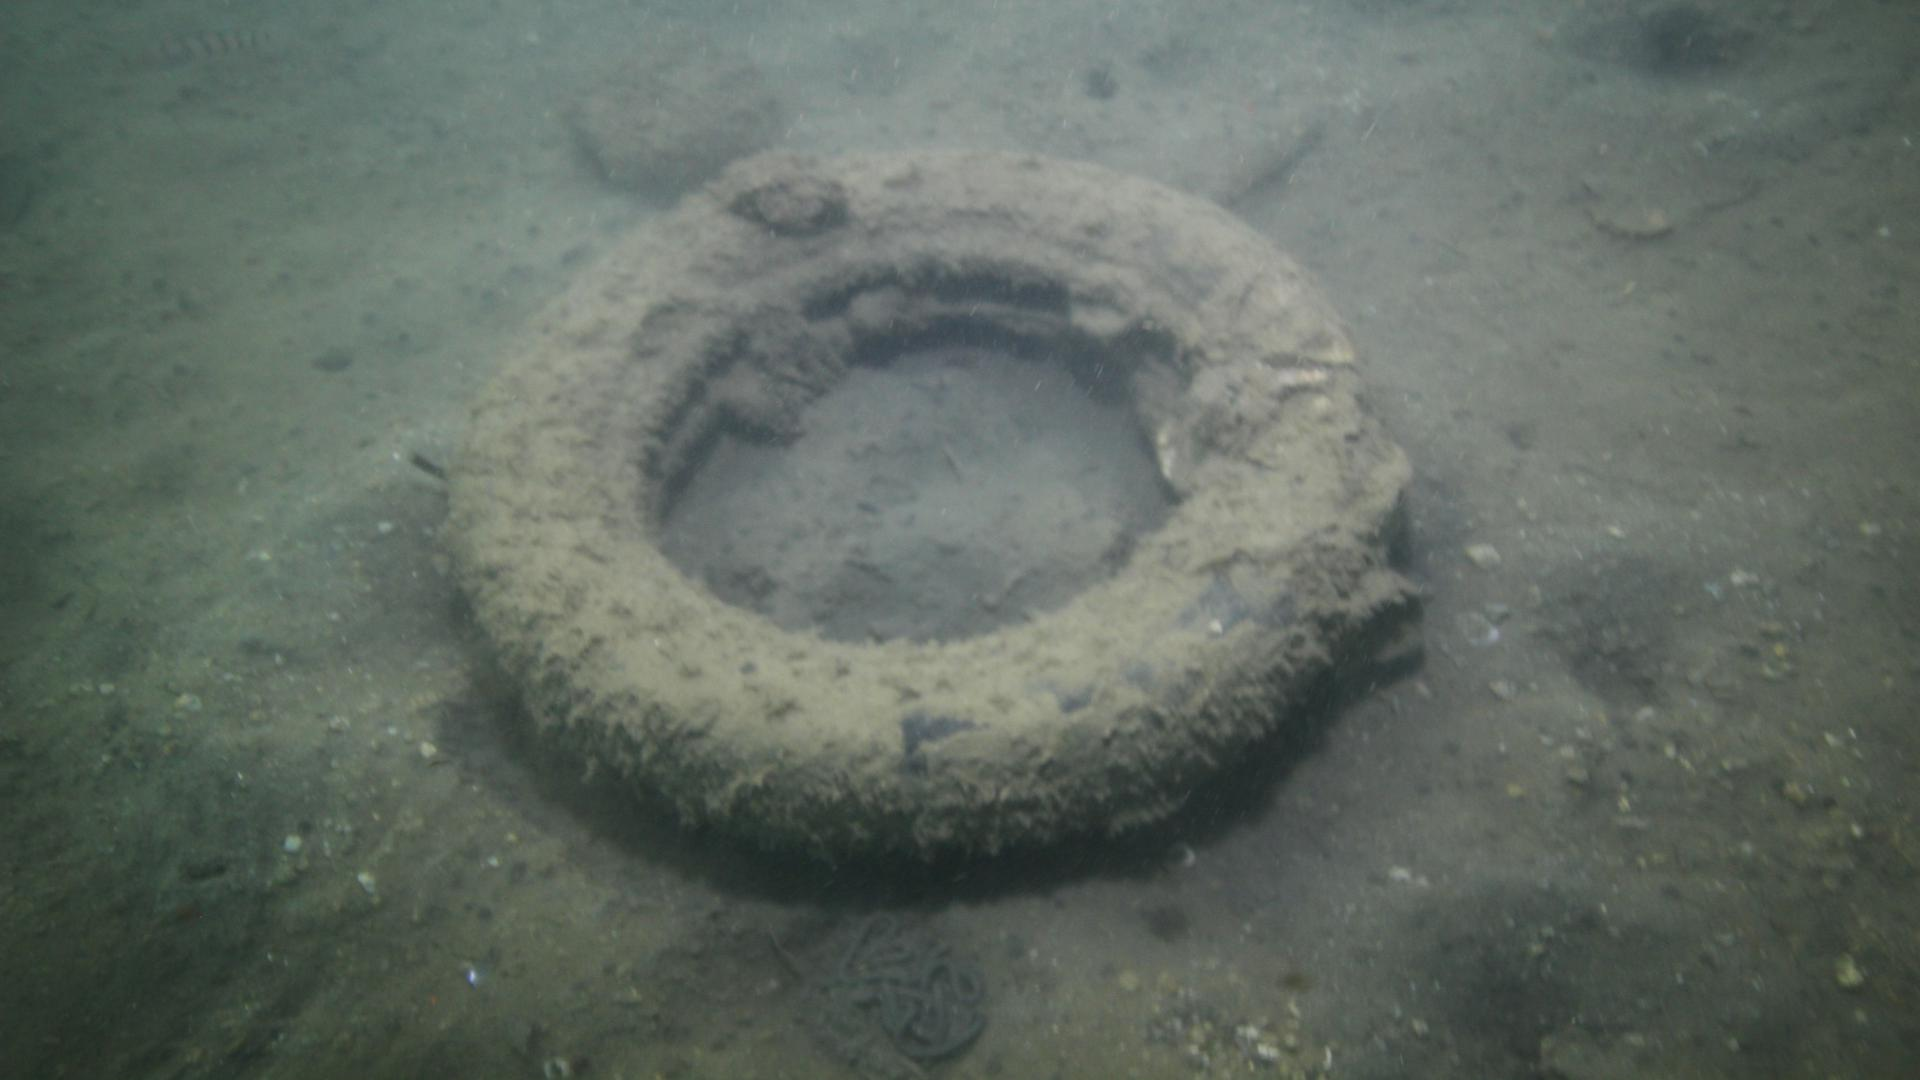tire: (447, 146, 1373, 876)
